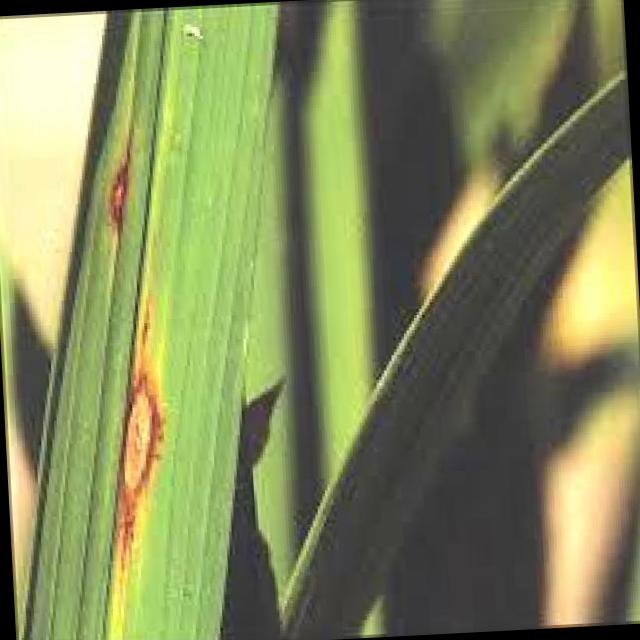Rice_Blast: (81, 308, 173, 572), (92, 111, 134, 236)
